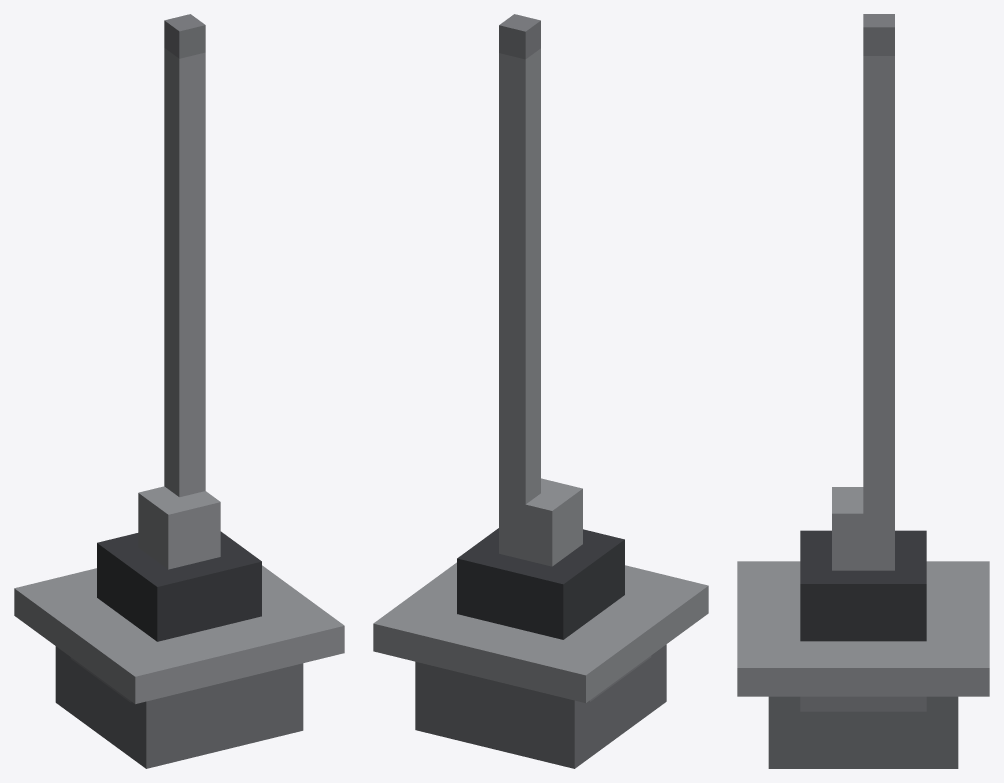
Rendered from Crown_1x1.obj.
The picture shows the model from 3 angles, left to right: view 1: azimuth 30°, elevation 25°; view 2: azimuth 150°, elevation 25°; view 3: azimuth 270°, elevation 25°; orthographic projection. The views are drawn at different scales.
Visible parts, largest first — view 1: Crown_1x1; view 2: Crown_1x1; view 3: Crown_1x1.
Boxes of the visible parts, left/top/right/bottom form: Crown_1x1: left=14, top=14, right=344, bottom=768; Crown_1x1: left=373, top=14, right=708, bottom=768; Crown_1x1: left=737, top=14, right=989, bottom=768.
Bounding box in the file's own units: 4 × 12.5 × 4.
1 material, 1 textured.
